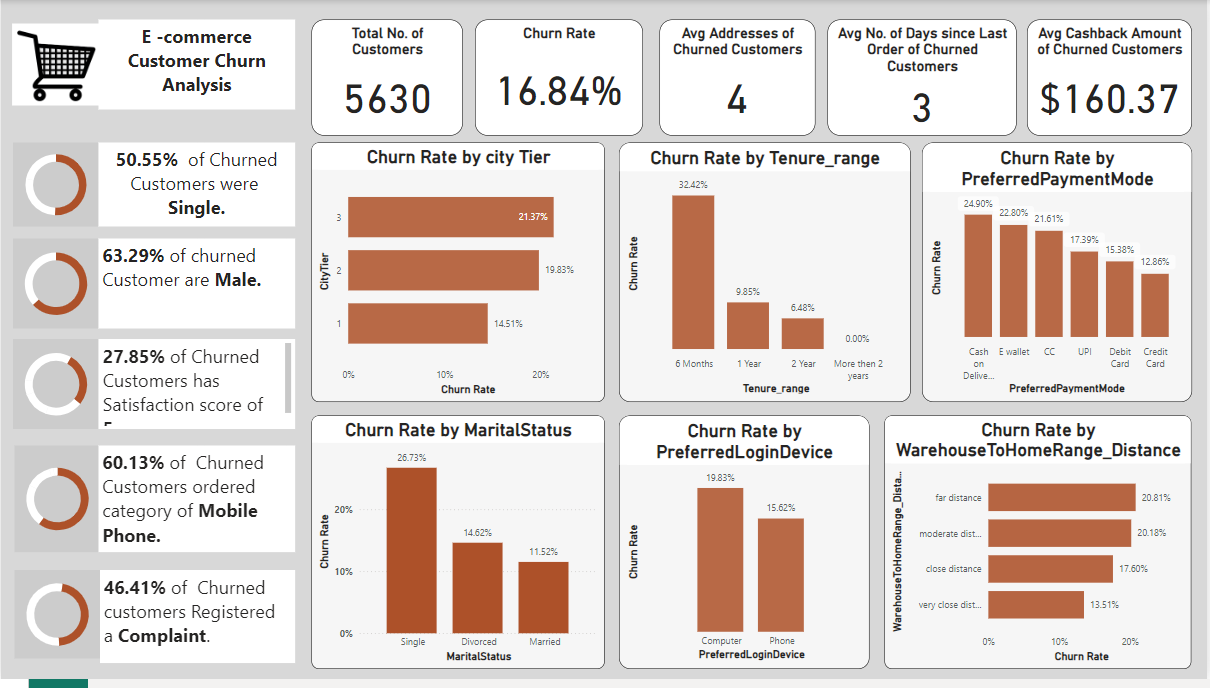

Layout of this report page (visuals, bound fields, positions):
{"tool":"powerbi","page":{"name":"Page 1","canvas":[1600,900],"ordinal":0},"visuals":[{"type":"card","title":"Total No. of Customers","fields":{"Values":["CountNonNull(customer ecomm.CustomerID)"]},"box":[410.9,26.3,200.4,153.8],"z":0},{"type":"card","title":"Churn Rate","fields":{"Values":["customer ecomm.Churn Rate"]},"box":[627.5,26.3,222.6,153.8],"z":1000},{"type":"card","title":"Avg Addresses of Churned Customers","fields":{"Values":["customer ecomm.AvgAddressof Churned Customers"]},"box":[872.4,26.3,206.5,153.8],"z":2000},{"type":"card","title":"Avg No. of Days since Last Order of Churned Customers","fields":{"Values":["customer ecomm.AvgDaysSinceLastOrder"]},"box":[1095,26.3,251,153.8],"z":3000},{"type":"card","title":"Avg Cashback Amount of Churned Customers","fields":{"Values":["customer ecomm.AvgCashback Amount of Churned Customers"]},"box":[1360.2,26.3,218.6,153.8],"z":4000},{"type":"barChart","title":"Churn Rate by city Tier","fields":{"Category":["customer ecomm.CityTier"],"Y":["customer ecomm.Churn Rate"]},"box":[410.9,188.2,388.6,344.1],"z":5000},{"type":"clusteredColumnChart","fields":{"Y":["customer ecomm.Churn Rate"],"Category":["customer ecomm.Tenure_range"]},"box":[819.7,188.2,386.6,344.1],"z":6000},{"type":"lineStackedColumnComboChart","fields":{"Category":["customer ecomm.PreferredPaymentMode"],"Y":["customer ecomm.Churn Rate"]},"box":[1220.5,188.2,358.3,344.1],"z":7000},{"type":"clusteredColumnChart","fields":{"Category":["customer ecomm.MaritalStatus"],"Y":["customer ecomm.Churn Rate"]},"box":[410.9,550.5,388.6,336],"z":8000},{"type":"clusteredColumnChart","fields":{"Category":["customer ecomm.PreferredLoginDevice"],"Y":["customer ecomm.Churn Rate"]},"box":[819.7,550.5,331.9,336],"z":9000},{"type":"clusteredBarChart","fields":{"Category":["customer ecomm.WarehouseToHomeRange_Distance"],"Y":["customer ecomm.Churn Rate"]},"box":[1171.9,550.5,406.8,336],"z":10000},{"type":"image","box":[0,25.8,145.1,119.3],"z":11000},{"type":"textbox","box":[129.2,25.8,260.5,119.3],"z":12000},{"type":"donutChart","fields":{"Category":["customer ecomm.MaritalStatus"],"Y":["customer ecomm.Churn Rate"]},"box":[15.9,188.9,113.3,111.3],"z":13000},{"type":"textbox","box":[129.2,188.9,260.5,111.3],"z":14000},{"type":"donutChart","fields":{"Category":["customer ecomm.Gender"],"Y":["Sum(customer ecomm.Churn)"]},"box":[15.9,316.1,113.3,119.3],"z":15000},{"type":"textbox","box":[129.2,316.1,260.5,119.3],"z":16000},{"type":"donutChart","fields":{"Y":["Sum(customer ecomm.Churn)"],"Category":["customer ecomm.SatisfactionScore"]},"box":[15.9,449.3,113.3,119.3],"z":17000},{"type":"textbox","box":[129.2,449.3,260.5,119.3],"z":18000},{"type":"donutChart","fields":{"Y":["Sum(customer ecomm.Churn)"],"Category":["customer ecomm.PreferedOrderCat"]},"box":[17.9,590.5,113.3,141.2],"z":19000},{"type":"textbox","box":[129.2,590.5,260.5,141.2],"z":19001},{"type":"donutChart","fields":{"Y":["Sum(customer ecomm.Churn)"],"Category":["customer ecomm.ComplainReceived"]},"box":[17.9,755.5,113.3,117.3],"z":19002},{"type":"textbox","box":[131.2,755.5,258.5,123.3],"z":19003}]}

Visuals, with their boxes in screenshot pixels (x1, y1, x2, y2), scaled from the page's 1600x900 canvas onto the 1210x688 screenshot:
"Total No. of Customers" card: x1=311 y1=20 x2=462 y2=138
"Churn Rate" card: x1=475 y1=20 x2=643 y2=138
"Avg Addresses of Churned Customers" card: x1=660 y1=20 x2=816 y2=138
"Avg No. of Days since Last Order of Churned Customers" card: x1=828 y1=20 x2=1018 y2=138
"Avg Cashback Amount of Churned Customers" card: x1=1029 y1=20 x2=1194 y2=138
"Churn Rate by city Tier" barChart: x1=311 y1=144 x2=605 y2=407
clusteredColumnChart - customer ecomm.Churn Rate x customer ecomm.Tenure_range: x1=620 y1=144 x2=912 y2=407
lineStackedColumnComboChart - customer ecomm.PreferredPaymentMode x customer ecomm.Churn Rate: x1=923 y1=144 x2=1194 y2=407
clusteredColumnChart - customer ecomm.MaritalStatus x customer ecomm.Churn Rate: x1=311 y1=421 x2=605 y2=678
clusteredColumnChart - customer ecomm.PreferredLoginDevice x customer ecomm.Churn Rate: x1=620 y1=421 x2=871 y2=678
clusteredBarChart - customer ecomm.WarehouseToHomeRange_Distance x customer ecomm.Churn Rate: x1=886 y1=421 x2=1194 y2=678
image: x1=0 y1=20 x2=110 y2=111
textbox: x1=98 y1=20 x2=295 y2=111
donutChart - customer ecomm.MaritalStatus x customer ecomm.Churn Rate: x1=12 y1=144 x2=98 y2=229
textbox: x1=98 y1=144 x2=295 y2=229
donutChart - customer ecomm.Gender x Sum(customer ecomm.Churn): x1=12 y1=242 x2=98 y2=333
textbox: x1=98 y1=242 x2=295 y2=333
donutChart - Sum(customer ecomm.Churn) x customer ecomm.SatisfactionScore: x1=12 y1=343 x2=98 y2=435
textbox: x1=98 y1=343 x2=295 y2=435
donutChart - Sum(customer ecomm.Churn) x customer ecomm.PreferedOrderCat: x1=14 y1=451 x2=99 y2=559
textbox: x1=98 y1=451 x2=295 y2=559
donutChart - Sum(customer ecomm.Churn) x customer ecomm.ComplainReceived: x1=14 y1=578 x2=99 y2=667
textbox: x1=99 y1=578 x2=295 y2=672
